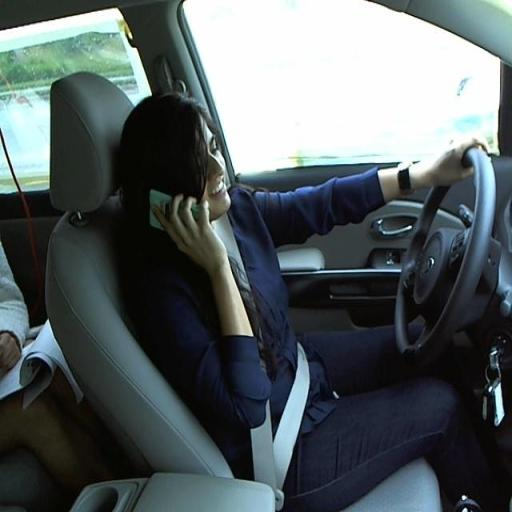talking_phone: (114, 115, 496, 427)
